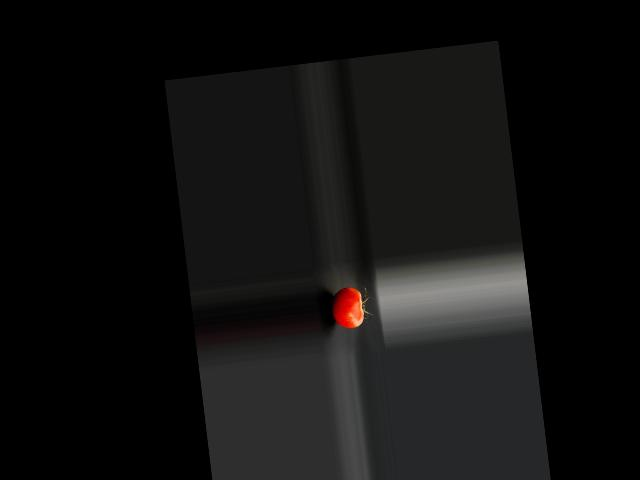tomato: (329, 286, 365, 330)
